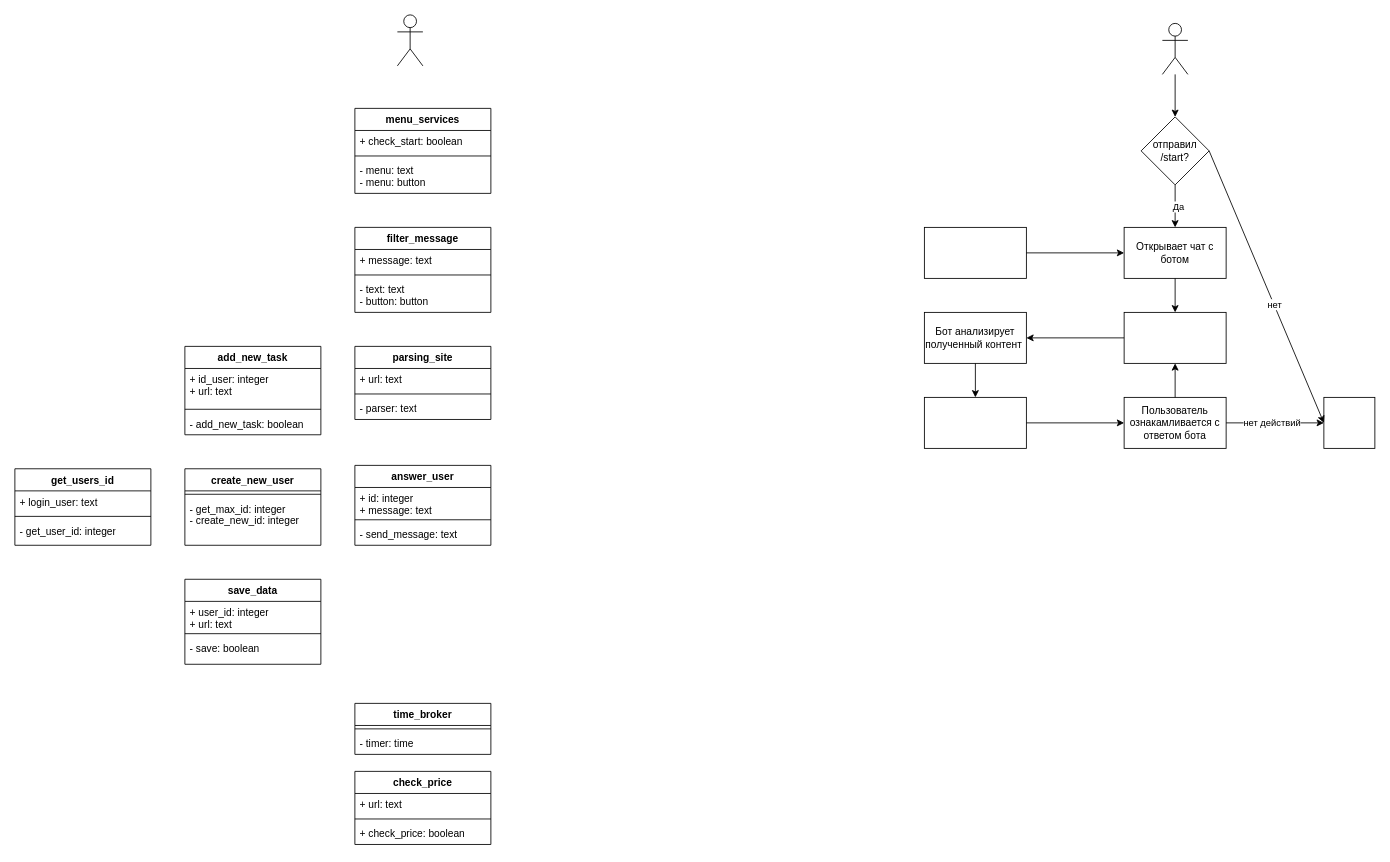
Some shapes in this 1390 by 862 pixel diagram are drawn without their labels. Here are the shapes that lost their labels. From the top down, the centre of each, then its label:
the point at 410,40: User
the point at 1175,48: Actor
the point at 975,252: Бот отображает варианты взаимодейтвия
the point at 1174,337: Отправляет текстовое сообщение или жмёт кнопку
the point at 975,422: Формирует ответ и направляет его пользователю
the point at 1349,422: Выход
